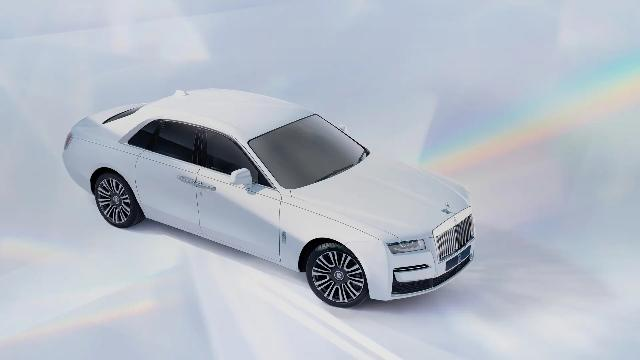rolls-royce: (61, 88, 476, 308)
